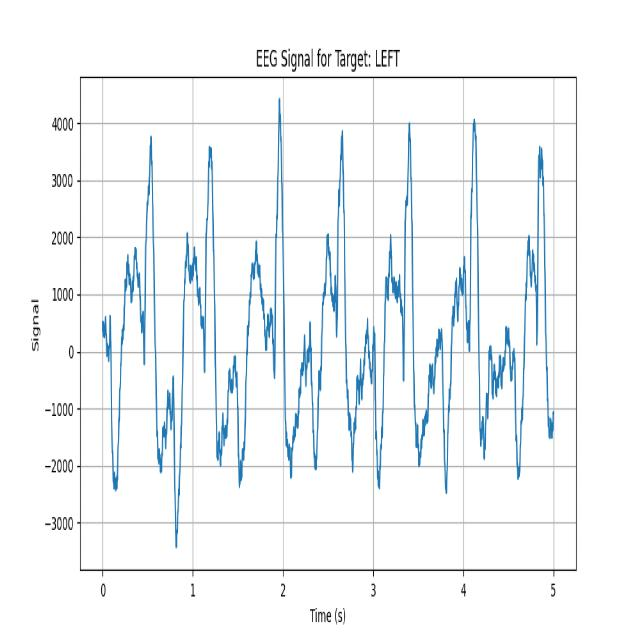LEFT: (102, 125, 185, 541), (171, 118, 249, 548), (250, 95, 321, 528), (372, 86, 440, 535), (440, 94, 498, 530), (499, 93, 555, 529), (319, 91, 373, 530)
